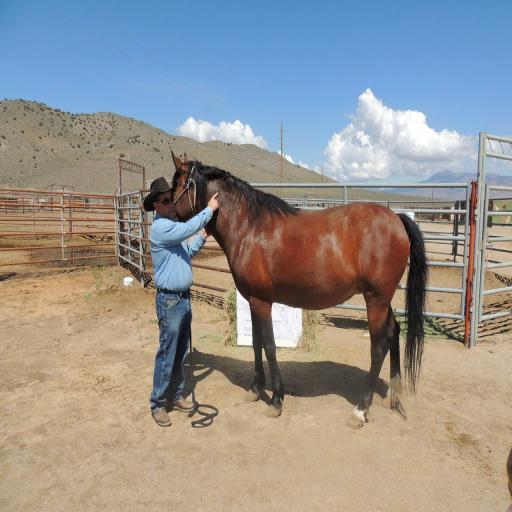Horse: (170, 148, 435, 429)
